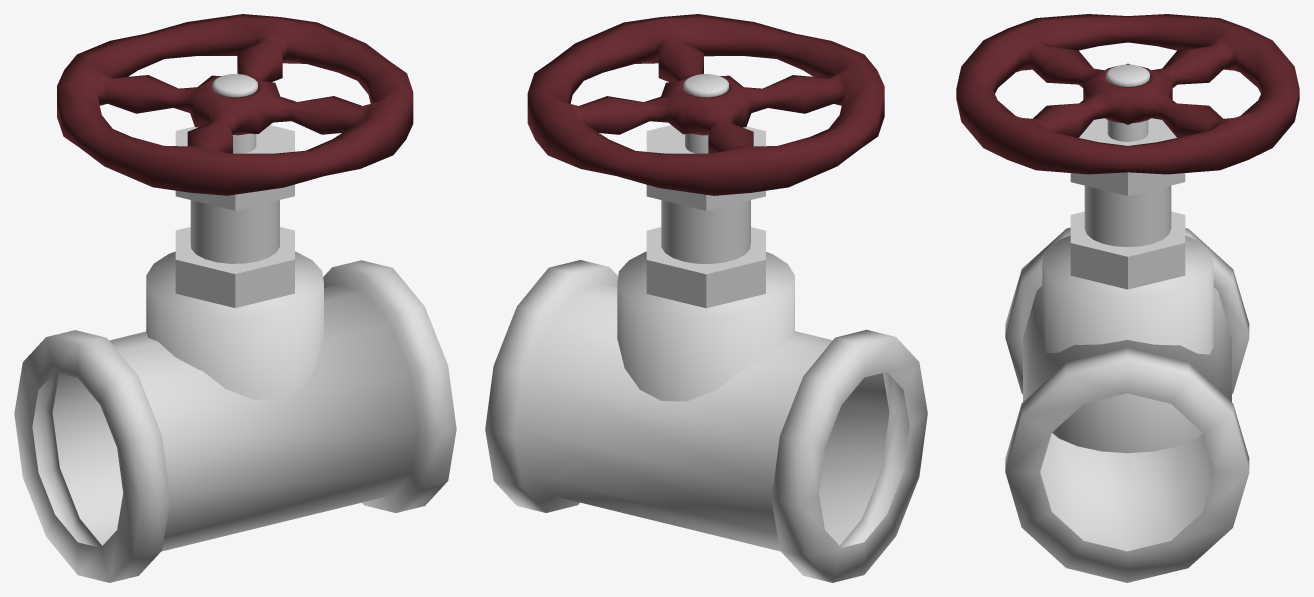
File: valve_2.FBX
3 views of the same model, side by side, from view 1: azimuth 30°, elevation 25°; view 2: azimuth 150°, elevation 25°; view 3: azimuth 270°, elevation 25° (orthographic). The views are drawn at different scales.
Parts seen in each view (by area): view 1: polySurface33; view 2: polySurface33; view 3: polySurface33.
Boxes of the visible parts, x1,y1,x2,y2 form: polySurface33: [14, 14, 456, 582]; polySurface33: [485, 14, 927, 582]; polySurface33: [956, 14, 1299, 582].
Size of the model in its own units: 2.9 by 2.84 by 3.99.
